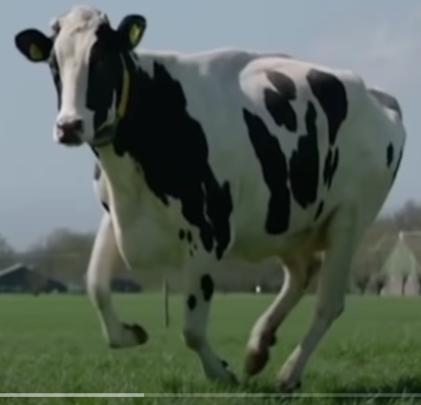cow: (15, 6, 405, 384)
